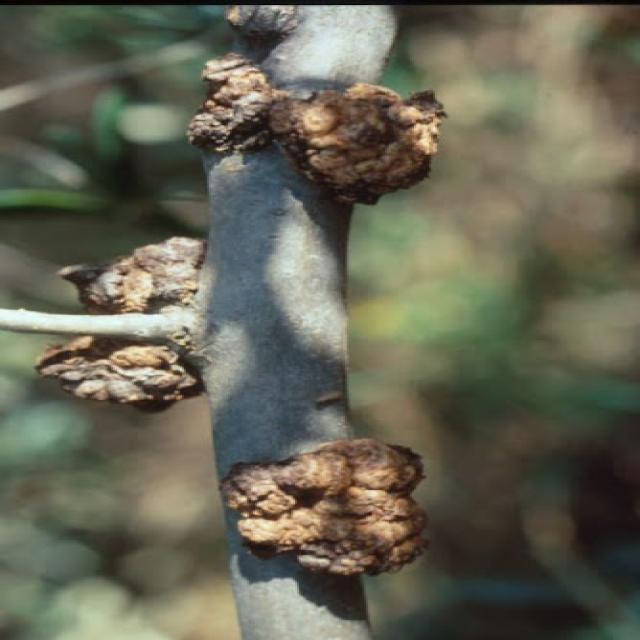Tuberculosis: (186, 52, 445, 205), (220, 439, 427, 576), (38, 336, 203, 411), (59, 238, 203, 312)
